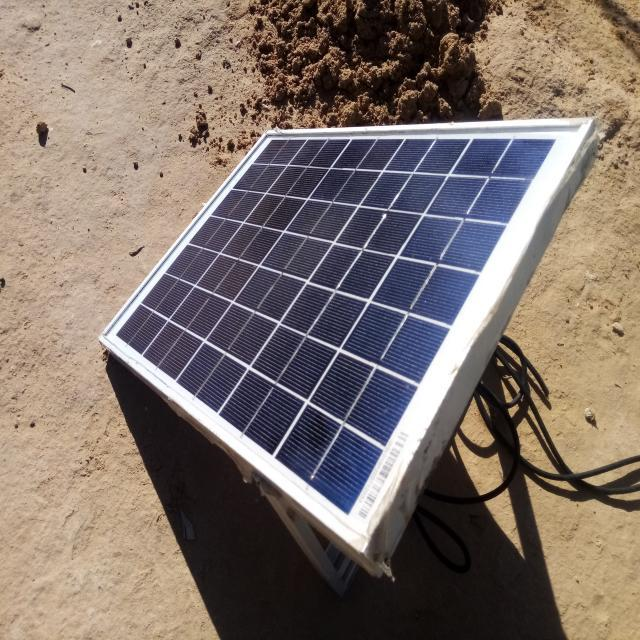no faulty: (105, 119, 595, 554)
